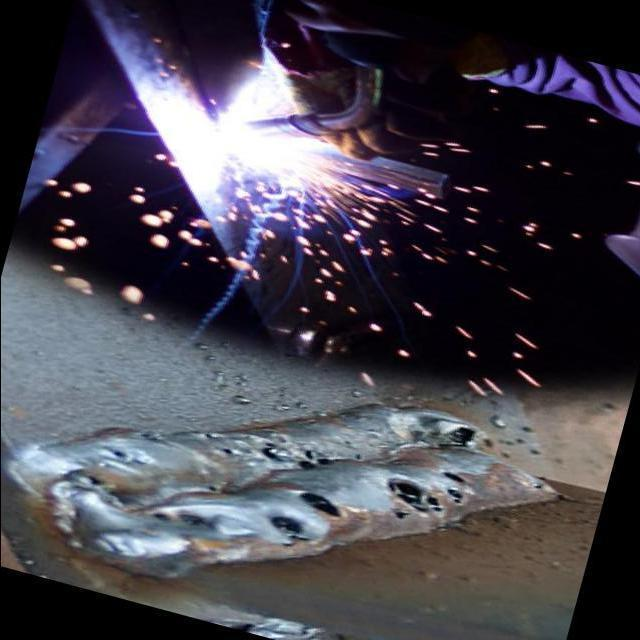defect: (383, 465, 475, 524), (405, 416, 478, 451), (293, 488, 353, 522), (266, 512, 314, 549), (72, 471, 118, 494), (296, 448, 336, 471), (255, 441, 285, 463), (174, 511, 210, 526), (108, 445, 131, 460), (137, 431, 162, 443), (149, 512, 170, 521), (526, 481, 545, 489), (342, 441, 359, 449), (203, 484, 218, 492), (352, 454, 367, 462), (220, 448, 236, 455), (204, 433, 214, 438)
